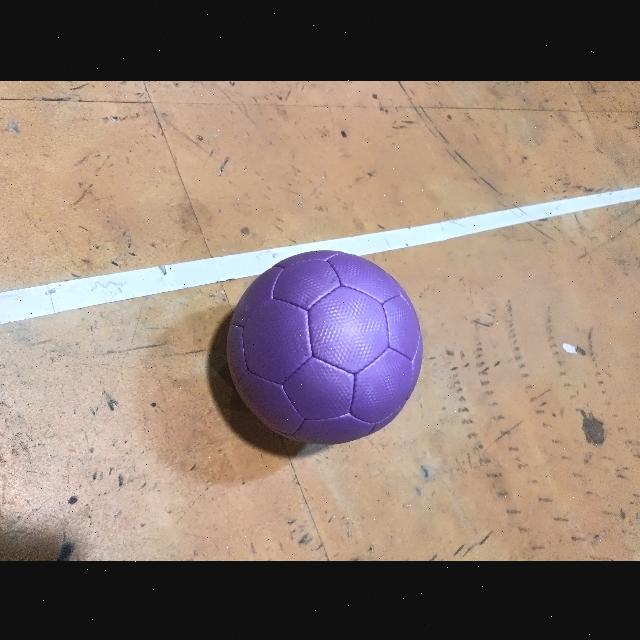P: (226, 249, 422, 443)
